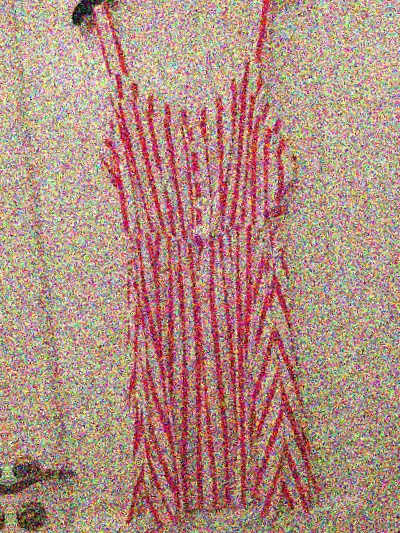Dress: (51, 0, 353, 533)
